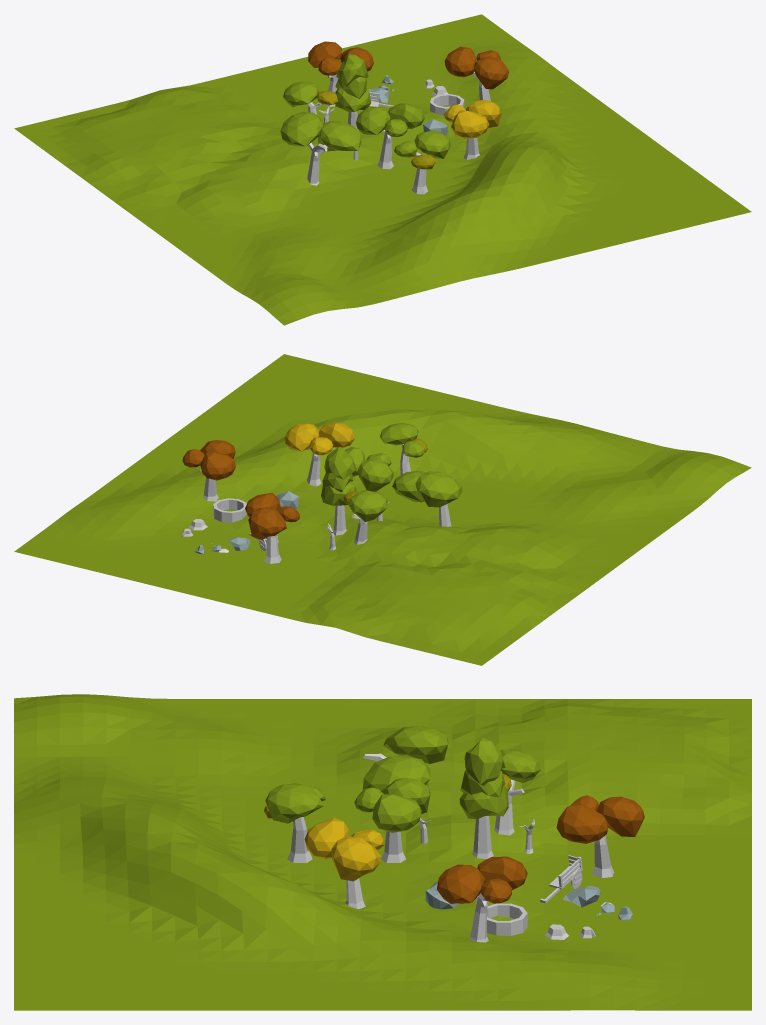
The model's file is FOREST.dae.
The picture shows the model from 3 angles, top to bottom: view 1: azimuth 30°, elevation 25°; view 2: azimuth 150°, elevation 25°; view 3: azimuth 270°, elevation 25°; orthographic projection. The views are drawn at different scales.
Parts seen in each view (by area): view 1: Plane, Cube_002, Cube, Cube_012, Cube_010, Cube_003, Cube_001, Cube_013, Cube_011; view 2: Plane, Cube_002, Cube_010, Cube_013, Cube_003, Cube_012, Cube, Cube_011, Cube_001, Cylinder; view 3: Plane, Cube_012, Cube_013, Cube_003, Cube_010, Cube_002, Cube, Cube_001, Cube_011, Cylinder, Cube_014, Cube_009.
Boxes of the visible parts, <box> form: Plane: <box>14,14,751,325</box>; Cube_002: <box>280,111,361,185</box>; Cube: <box>356,103,425,169</box>; Cube_012: <box>444,46,508,101</box>; Cube_010: <box>444,100,501,159</box>; Cube_003: <box>335,53,371,130</box>; Cube_001: <box>394,130,450,194</box>; Cube_013: <box>308,41,373,106</box>; Cube_011: <box>283,81,338,138</box>; Plane: <box>14,354,751,665</box>; Cube_002: <box>392,470,462,526</box>; Cube_010: <box>285,422,354,486</box>; Cube_013: <box>245,492,299,563</box>; Cube_003: <box>321,447,356,535</box>; Cube_012: <box>182,440,235,501</box>; Cube: <box>345,446,393,491</box>; Cube_011: <box>343,490,387,544</box>; Cube_001: <box>380,422,427,474</box>; Cylinder: <box>213,498,246,522</box>; Plane: <box>14,694,751,1010</box>; Cube_012: <box>436,856,527,942</box>; Cube_013: <box>556,795,644,877</box>; Cube_003: <box>459,737,508,858</box>; Cube_010: <box>304,817,384,908</box>; Cube_002: <box>362,726,448,791</box>; Cube: <box>354,778,430,862</box>; Cube_001: <box>264,783,326,862</box>; Cube_011: <box>494,749,540,835</box>; Cylinder: <box>487,903,527,935</box>; Cube_014: <box>540,855,582,903</box>; Cube_009: <box>563,886,600,907</box>.
Bounding box in the file's own units: 30.83 × 30.83 × 5.88.
